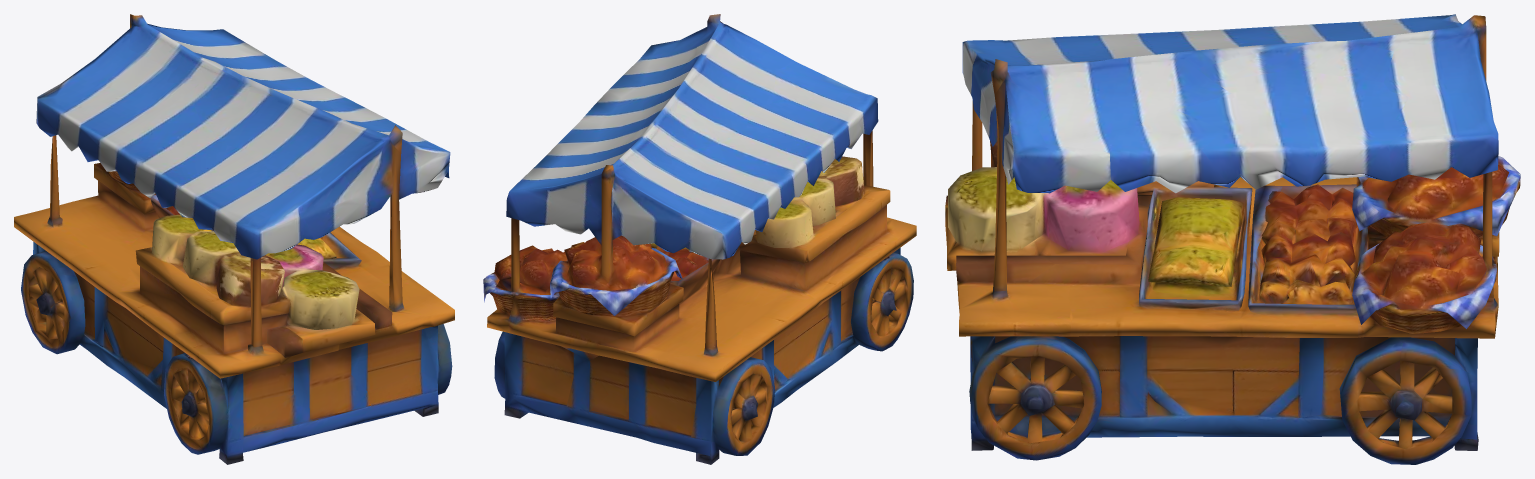
File: st_sweets.glb
The picture shows the model from 3 angles, left to right: view 1: azimuth 30°, elevation 25°; view 2: azimuth 150°, elevation 25°; view 3: azimuth 270°, elevation 25°; orthographic projection. The views are drawn at different scales.
Visible parts, largest first — view 1: tripo_node_941cd947-ff71-4c95-b88b-e06acbd389dd; view 2: tripo_node_941cd947-ff71-4c95-b88b-e06acbd389dd; view 3: tripo_node_941cd947-ff71-4c95-b88b-e06acbd389dd.
Part boxes in pixels (x1,y1,x2,y2): tripo_node_941cd947-ff71-4c95-b88b-e06acbd389dd: [14, 14, 454, 464]; tripo_node_941cd947-ff71-4c95-b88b-e06acbd389dd: [483, 14, 916, 464]; tripo_node_941cd947-ff71-4c95-b88b-e06acbd389dd: [945, 14, 1520, 464].
Bounding box in the file's own units: 0.6905 × 0.7212 × 1.
Materials: 1 (1 with a texture image).
